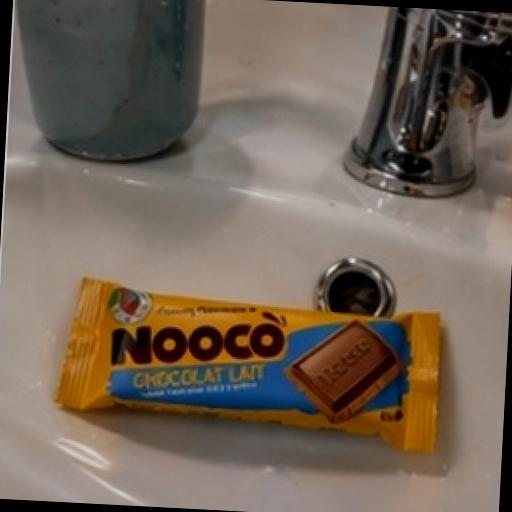biscuit-detection: (55, 268, 449, 482)
